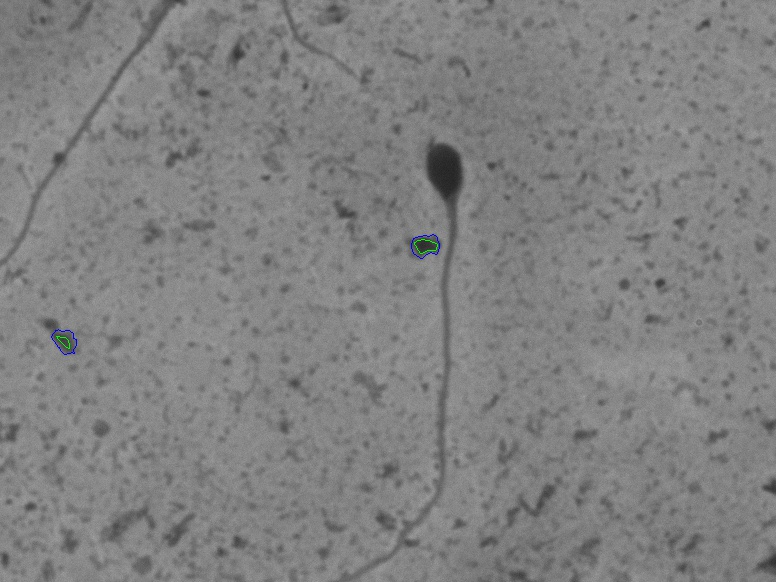Abnormal: (350, 128, 503, 575)
